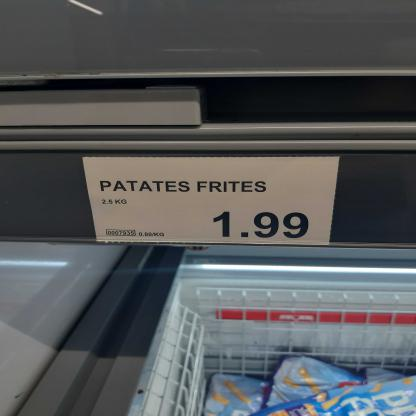prtg: (83, 157, 343, 247)
